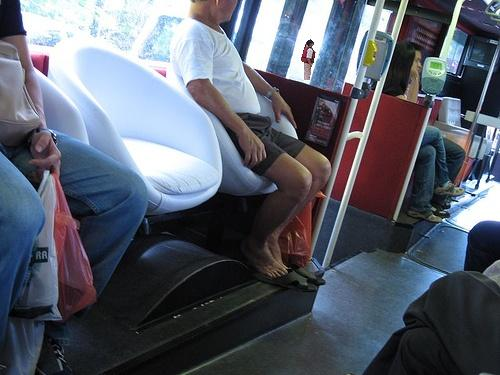tampered: (302, 40, 484, 80)
